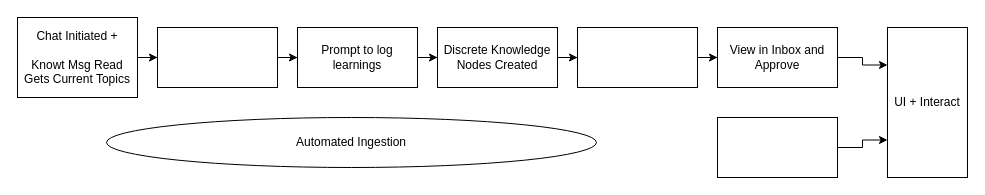
This 985x195 diagram has some shape labels left out. Each missing label, with the box of its shape:
Conversations and New Learnings: (156, 26, 278, 88)
Manually create knowledge node and assign parent: (716, 116, 838, 178)
Request to send to Inbox: (576, 26, 698, 88)
